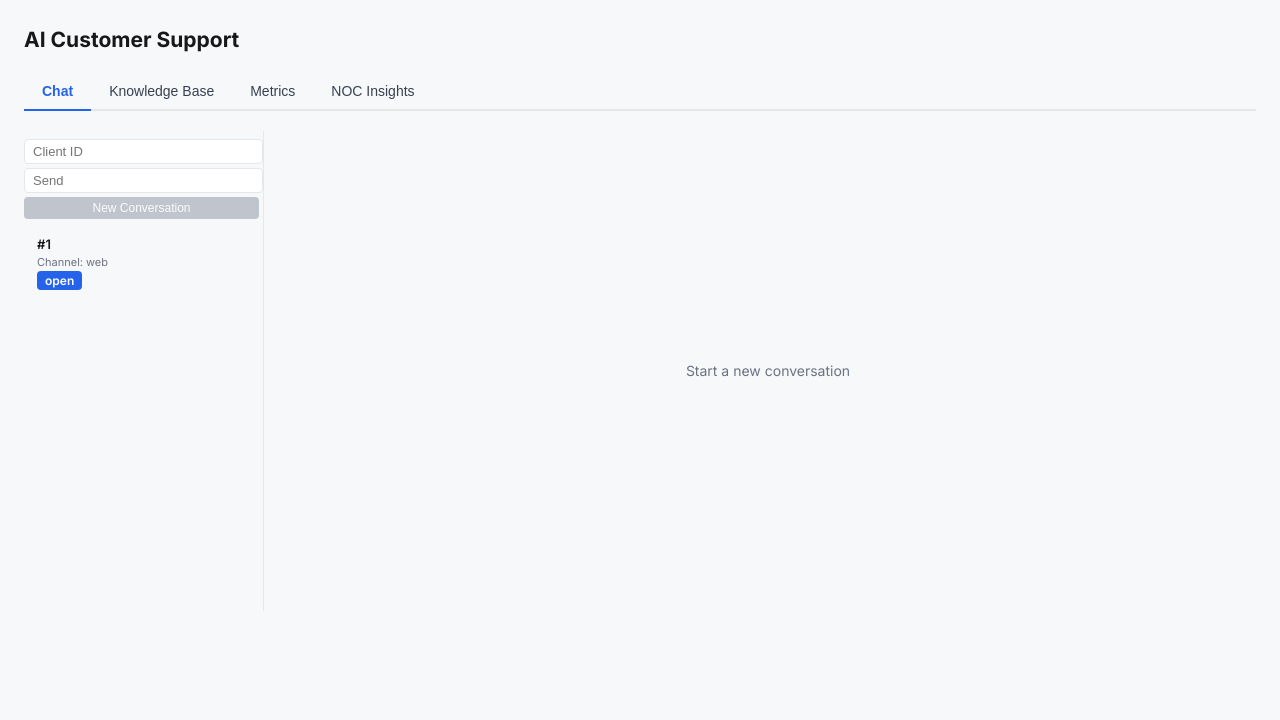
Scenario: AiSupportPage › clicking Metrics tab shows metrics content
Click the button "Metrics". click: click(273, 92)
box: [232,73,313,111]
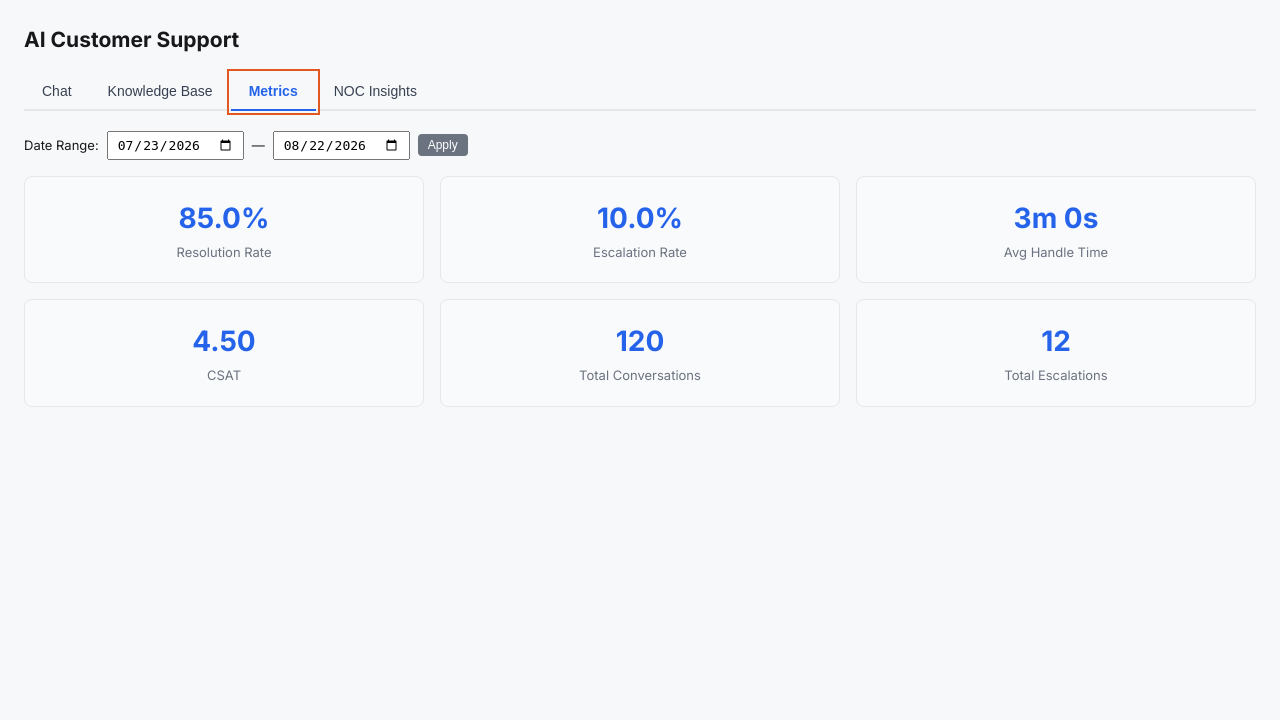
Check: the text "Resolution Rate" is shown, box [176,244,272,260]
